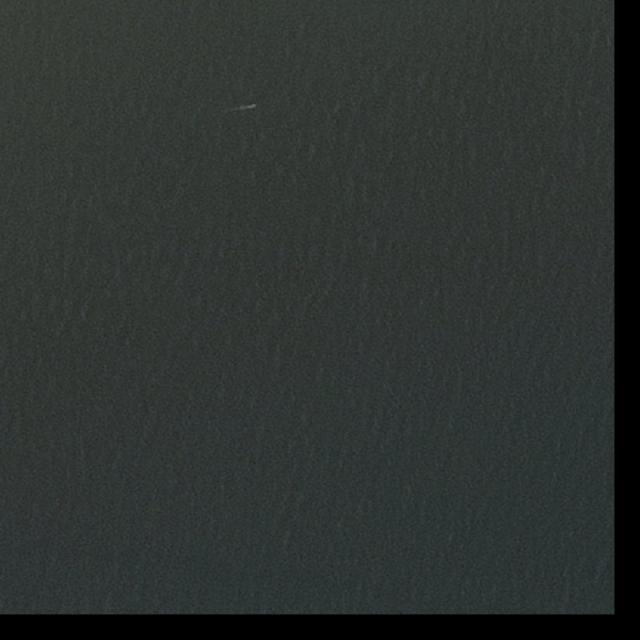ship: (251, 104, 257, 110)
